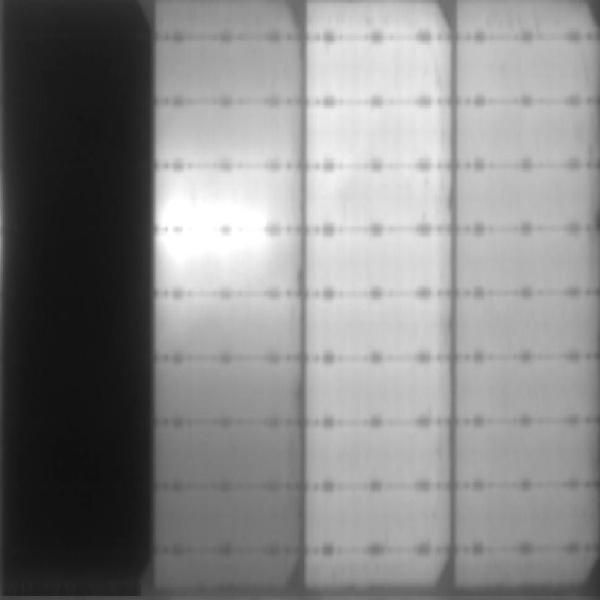hot_spot: (156, 236, 273, 261), (163, 199, 264, 225)
no_electricity: (1, 4, 153, 598)
